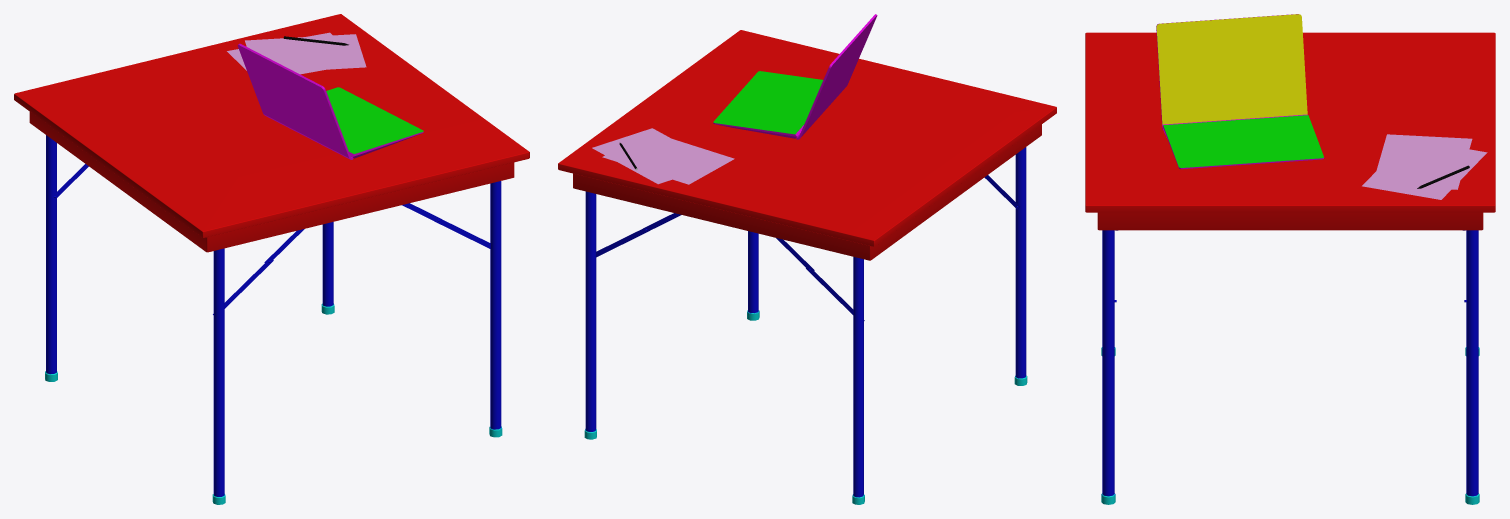
The model's file is Marshall_Table_00.fbx.
3 views of the same model, side by side, from view 1: azimuth 30°, elevation 25°; view 2: azimuth 150°, elevation 25°; view 3: azimuth 270°, elevation 25° (orthographic). The views are drawn at different scales.
Visible parts, largest first — view 1: Marshall_Table_00; view 2: Marshall_Table_00; view 3: Marshall_Table_00.
Boxes of the visible parts, x1,y1,x2,y2 form: Marshall_Table_00: (14,14,529,504); Marshall_Table_00: (558,14,1056,504); Marshall_Table_00: (1085,14,1495,504).
Bounding box in the file's own units: 1 × 1.07 × 1.
